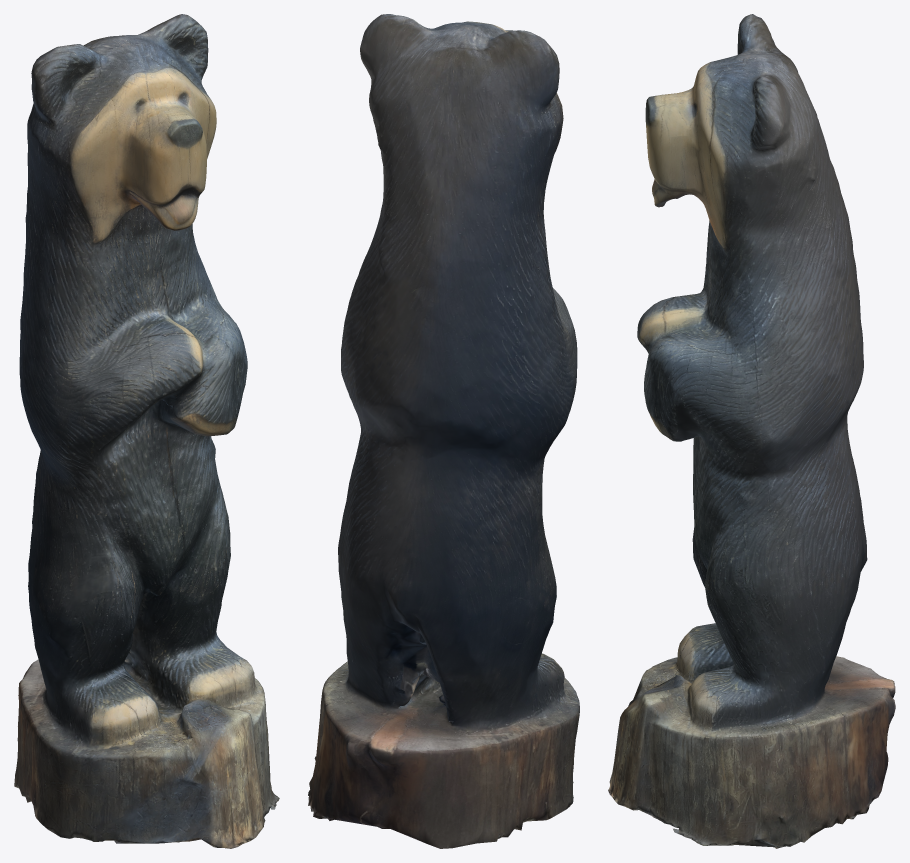
Rendered from black_bear_final.obj.
The picture shows the model from 3 angles, left to right: view 1: azimuth 30°, elevation 25°; view 2: azimuth 150°, elevation 25°; view 3: azimuth 270°, elevation 25°; orthographic projection. The views are drawn at different scales.
Parts seen in each view (by area): view 1: black_bear_final; view 2: black_bear_final; view 3: black_bear_final.
Boxes of the visible parts, x1,y1,x2,y2 form: black_bear_final: (14, 14, 279, 848); black_bear_final: (308, 14, 579, 848); black_bear_final: (608, 14, 895, 848).
Size of the model in its own units: 1.16 by 3.79 by 1.33.
1 material, 1 textured.
